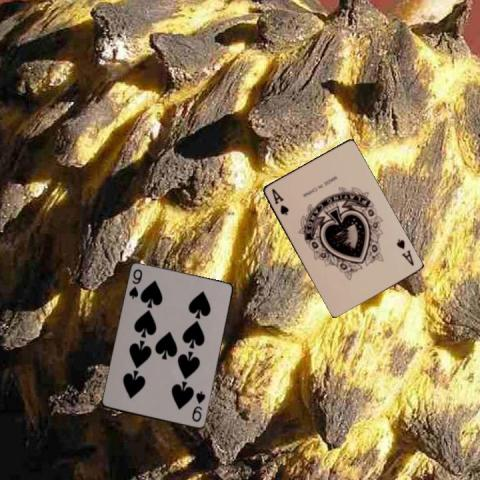9s: (188, 388, 206, 423), (126, 266, 144, 300)
As: (393, 236, 416, 267), (268, 185, 290, 217)
